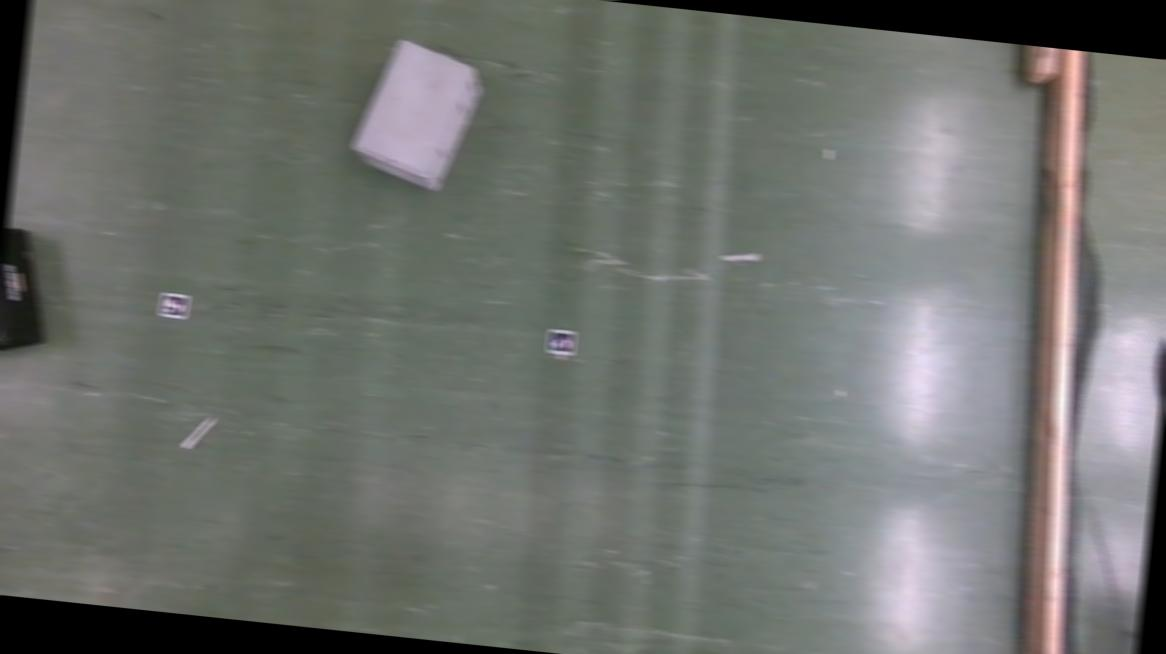probes: (180, 413, 215, 452), (719, 249, 758, 264)
rako: (346, 34, 488, 196), (0, 222, 56, 364)
